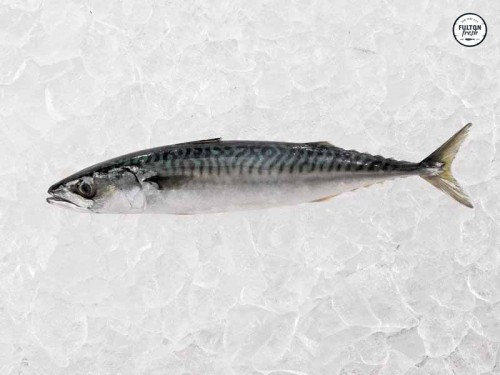Mackerel: (44, 119, 480, 219)
